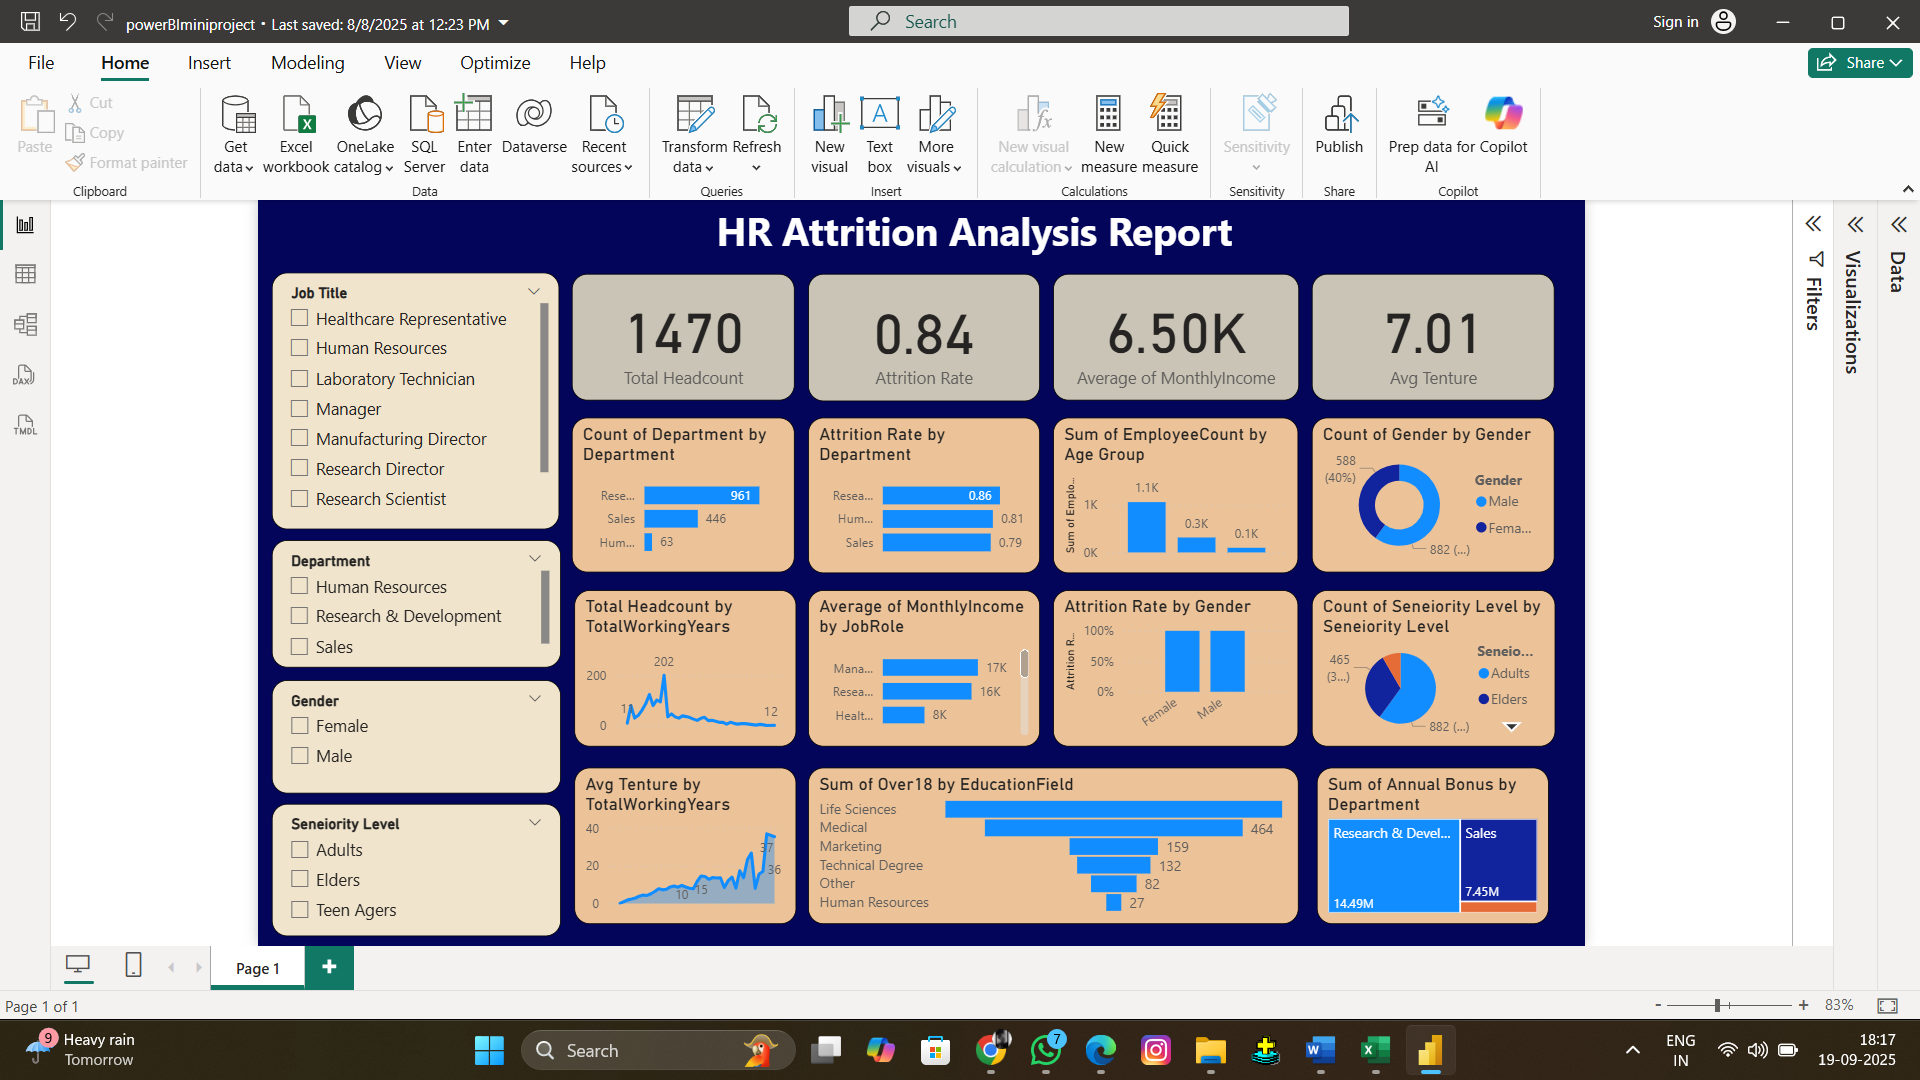

This screenshot's page, from the dashboard's own definition file:
{"tool":"powerbi","page":{"name":"Page 1","canvas":[1280,720],"ordinal":0},"visuals":[{"type":"slicer","fields":{"Values":["project hr_data.Department"]},"box":[12.8,327.9,279.1,123.3],"z":0},{"type":"textbox","box":[360.9,0,661.4,118],"z":1000},{"type":"slicer","fields":{"Values":["project hr_data.JobRole"]},"box":[12.8,69.8,277.9,247.7],"z":2000},{"type":"slicer","fields":{"Values":["project hr_data.Gender"]},"box":[12.8,462.8,279.1,109.3],"z":3000},{"type":"slicer","fields":{"Values":["project hr_data.Seneiority Level"]},"box":[12.8,582.6,279.1,127.9],"z":4000},{"type":"card","fields":{"Values":["project hr_data.Total Headcount"]},"box":[303.3,71.4,215.4,122.1],"z":5000},{"type":"card","fields":{"Values":["project hr_data.Attrition Rate"]},"box":[531,71.4,223.7,123.5],"z":6000},{"type":"card","fields":{"Values":["Avg(project hr_data.MonthlyIncome)"]},"box":[767.1,71.4,237.4,122.1],"z":7000},{"type":"card","fields":{"Values":["project hr_data.Avg Tenture"]},"box":[1016.8,71.4,234.6,122.1],"z":8000},{"type":"barChart","fields":{"Category":["project hr_data.Department"],"Y":["CountNonNull(project hr_data.Department)"]},"box":[303.3,209.9,215.4,149.6],"z":9000},{"type":"clusteredBarChart","fields":{"Y":["project hr_data.Attrition Rate"],"Category":["project hr_data.Department"]},"box":[531,210,224,150],"z":10000},{"type":"columnChart","fields":{"Y":["Sum(project hr_data.EmployeeCount)"],"Category":["project hr_data.Age Group"]},"box":[767,210,237,150],"z":10001},{"type":"donutChart","fields":{"Category":["project hr_data.Gender"],"Y":["CountNonNull(project hr_data.Gender)"]},"box":[1016.8,209.9,234.6,149.6],"z":10002},{"type":"lineChart","fields":{"Y":["project hr_data.Total Headcount"],"Category":["project hr_data.TotalWorkingYears"]},"box":[304.6,376,214.1,150.9],"z":10003},{"type":"clusteredBarChart","fields":{"Y":["Avg(project hr_data.MonthlyIncome)"],"Category":["project hr_data.JobRole"]},"box":[531,376,224,151],"z":10004},{"type":"hundredPercentStackedColumnChart","fields":{"Y":["project hr_data.Attrition Rate"],"Category":["project hr_data.Gender"]},"box":[767,376,237,151],"z":10005},{"type":"pieChart","fields":{"Category":["project hr_data.Seneiority Level"],"Y":["CountNonNull(project hr_data.Seneiority Level)"]},"box":[1017,376,235,151],"z":10006},{"type":"stackedAreaChart","fields":{"Category":["project hr_data.TotalWorkingYears"],"Y":["project hr_data.Avg Tenture"]},"box":[304.6,547.5,214.1,150.9],"z":10007},{"type":"treemap","fields":{"Values":["Sum(project hr_data.Annual Bonus)"],"Group":["project hr_data.Department"]},"box":[1022.3,547.5,223.7,150.9],"z":10008},{"type":"funnel","fields":{"Category":["project hr_data.EducationField"],"Y":["Sum(project hr_data.Over18)"]},"box":[531,547.5,473.4,150.9],"z":10009}]}

Visuals, with their boxes on the page's 1280x720 design canvas (x1, y1, x2, y2). These are canvas units, not pixel positions in the 1920x1080 screenshot, which may show the page scaled, cropped or inside an application window:
slicer - project hr_data.Department: 13,328,292,451
textbox: 361,0,1022,118
slicer - project hr_data.JobRole: 13,70,291,318
slicer - project hr_data.Gender: 13,463,292,572
slicer - project hr_data.Seneiority Level: 13,583,292,710
card - project hr_data.Total Headcount: 303,71,519,194
card - project hr_data.Attrition Rate: 531,71,755,195
card - Avg(project hr_data.MonthlyIncome): 767,71,1004,194
card - project hr_data.Avg Tenture: 1017,71,1251,194
barChart - project hr_data.Department x CountNonNull(project hr_data.Department): 303,210,519,360
clusteredBarChart - project hr_data.Attrition Rate x project hr_data.Department: 531,210,755,360
columnChart - Sum(project hr_data.EmployeeCount) x project hr_data.Age Group: 767,210,1004,360
donutChart - project hr_data.Gender x CountNonNull(project hr_data.Gender): 1017,210,1251,360
lineChart - project hr_data.Total Headcount x project hr_data.TotalWorkingYears: 305,376,519,527
clusteredBarChart - Avg(project hr_data.MonthlyIncome) x project hr_data.JobRole: 531,376,755,527
hundredPercentStackedColumnChart - project hr_data.Attrition Rate x project hr_data.Gender: 767,376,1004,527
pieChart - project hr_data.Seneiority Level x CountNonNull(project hr_data.Seneiority Level): 1017,376,1252,527
stackedAreaChart - project hr_data.TotalWorkingYears x project hr_data.Avg Tenture: 305,548,519,698
treemap - Sum(project hr_data.Annual Bonus) x project hr_data.Department: 1022,548,1246,698
funnel - project hr_data.EducationField x Sum(project hr_data.Over18): 531,548,1004,698
